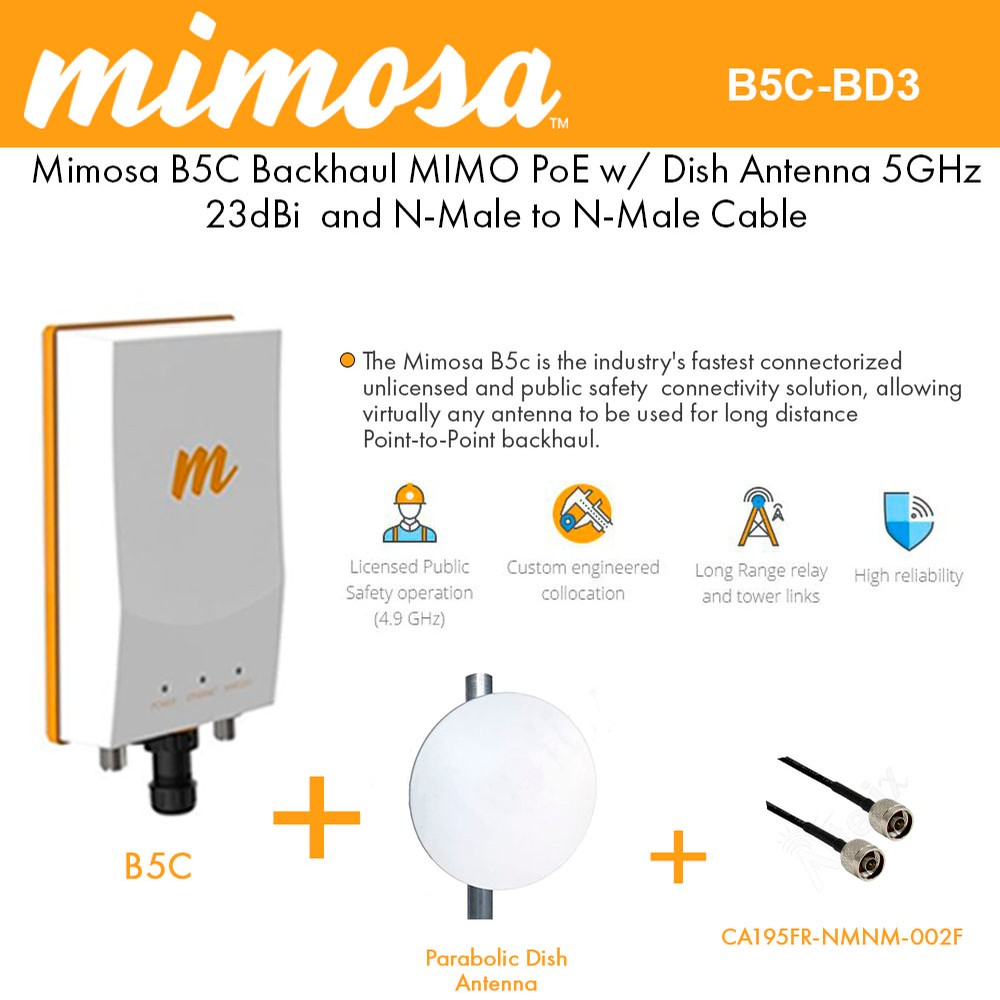ba: (402, 666, 610, 924)
